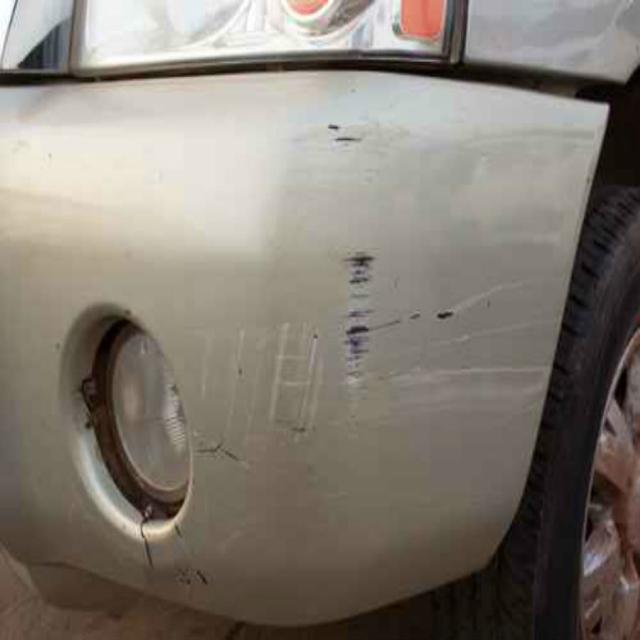Scratch: (340, 249, 374, 393), (324, 120, 357, 146)
